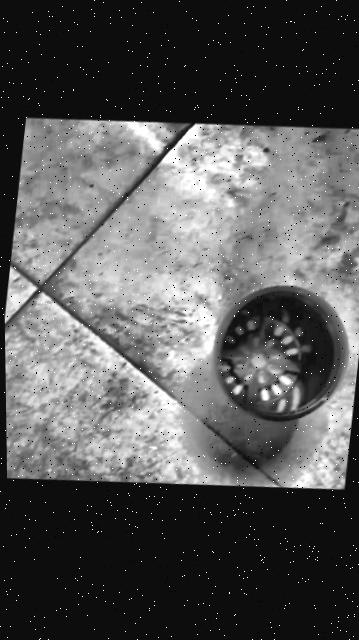pot: (204, 272, 352, 435)
